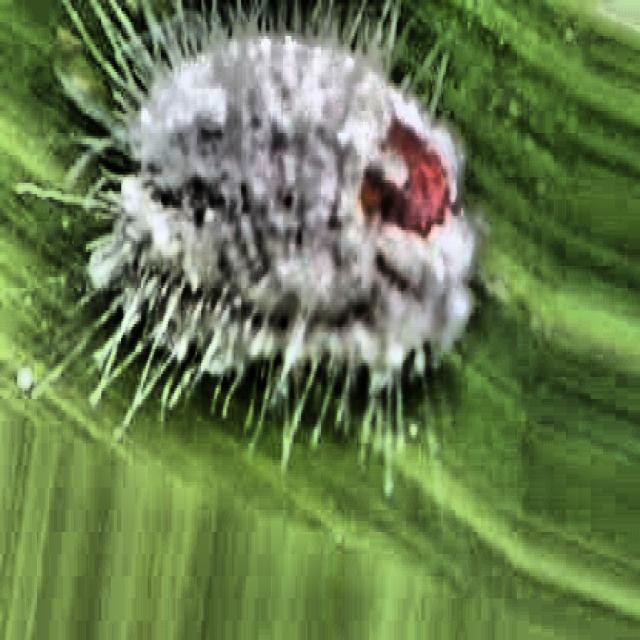Mealy-bug: (61, 0, 508, 415)
